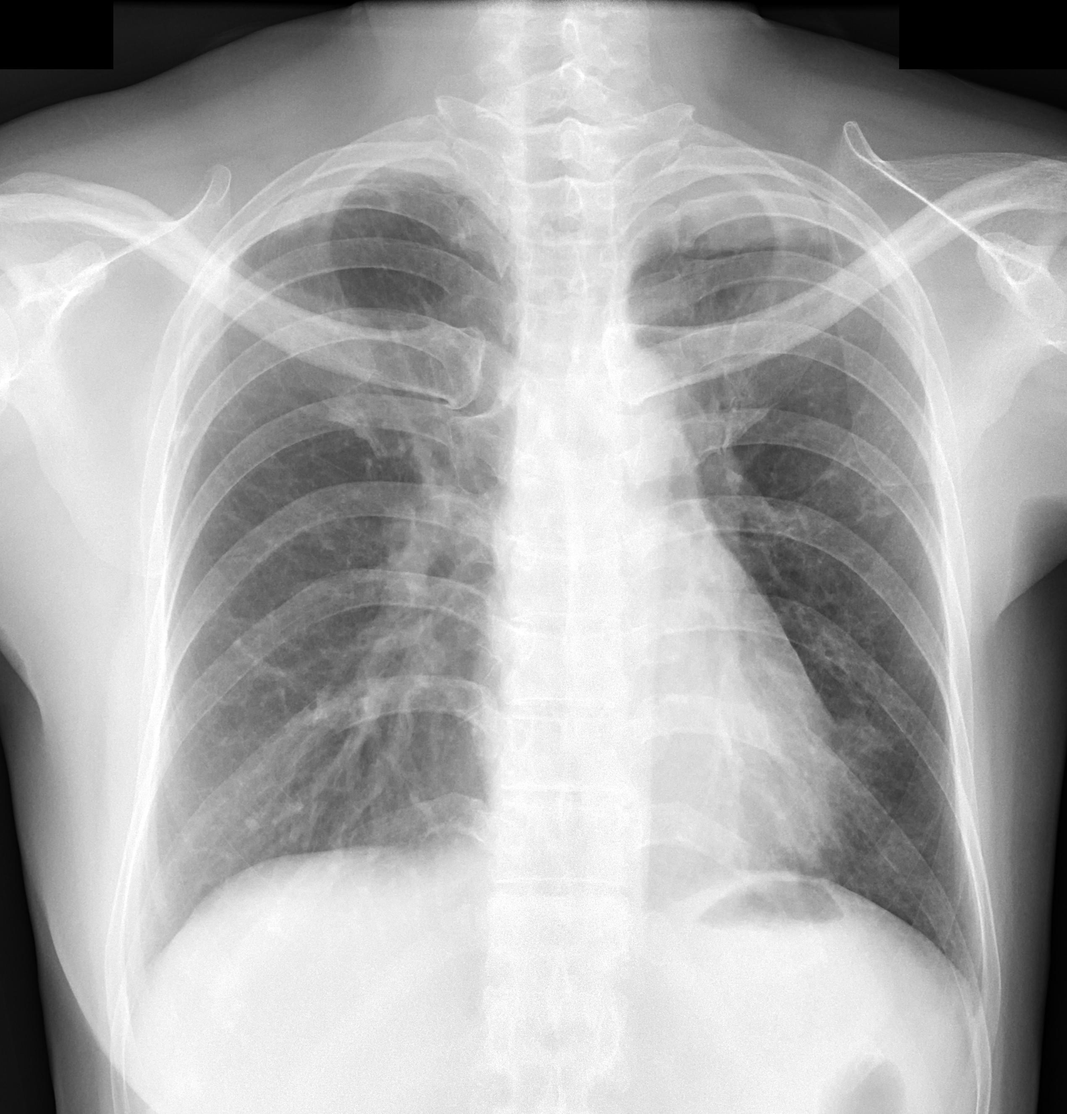Pleural thickening: (624, 178, 858, 255), (268, 166, 457, 226)
